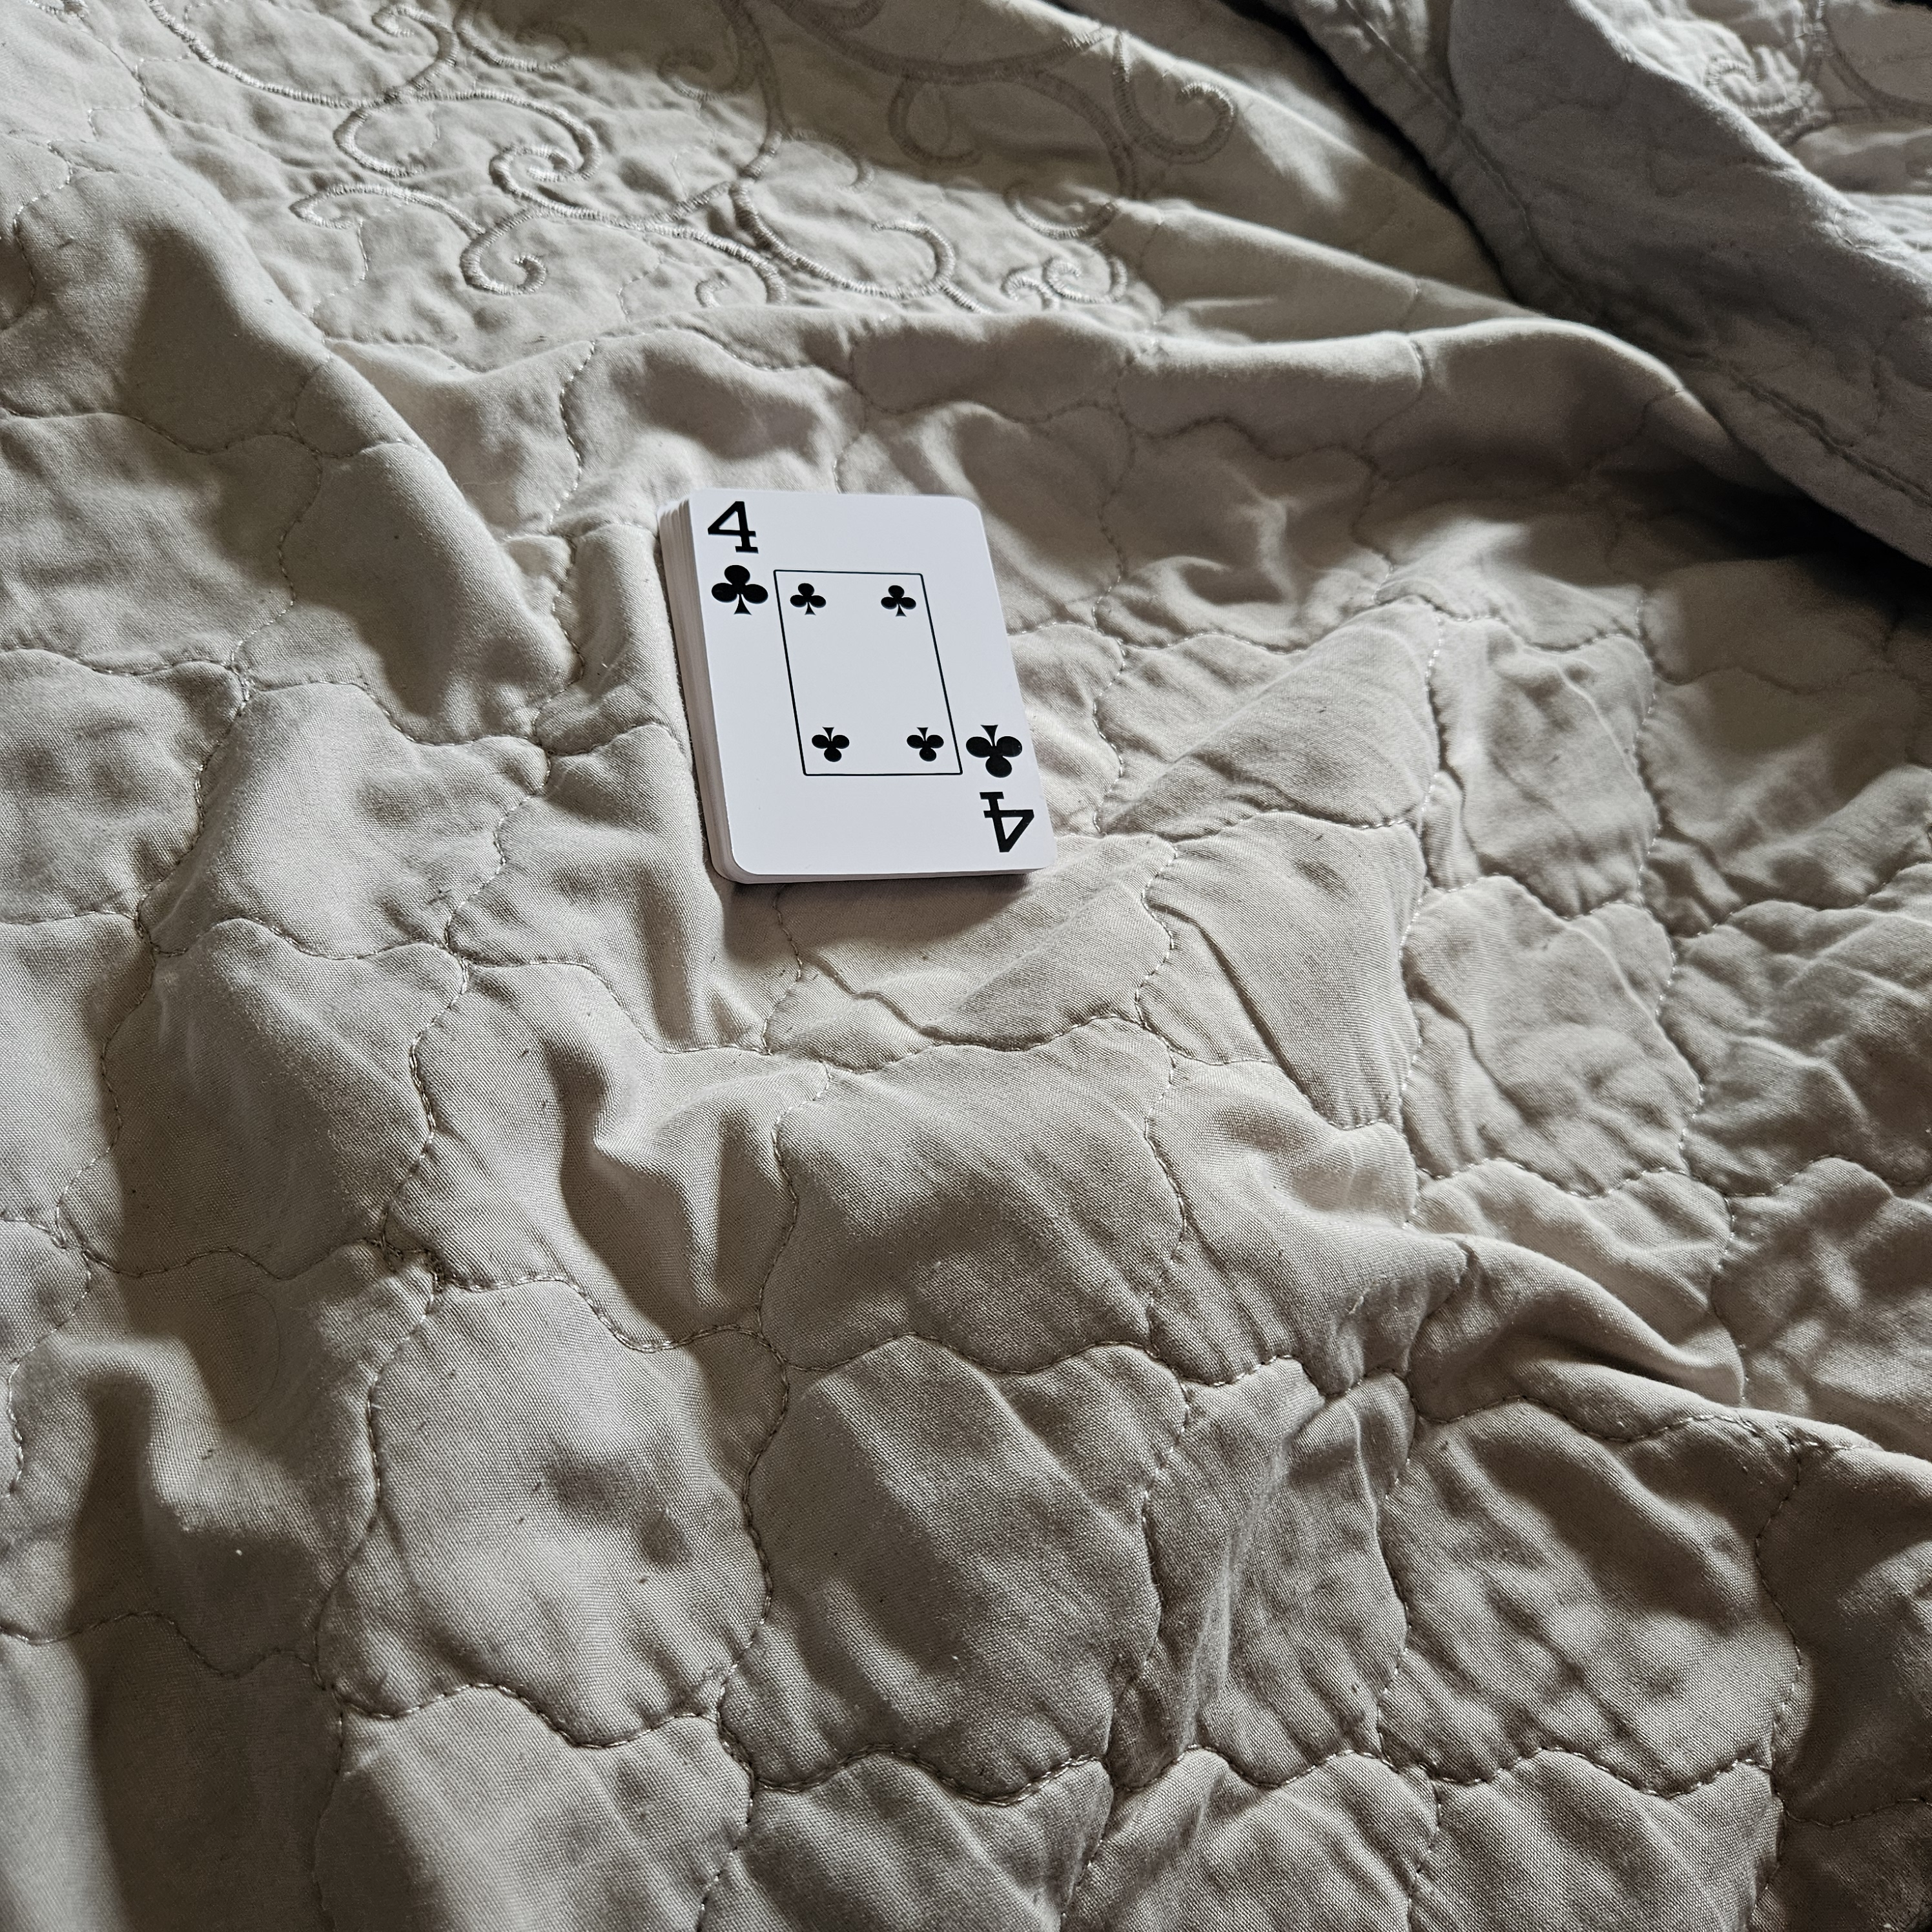4P: (692, 479, 784, 630), (952, 713, 1044, 862)
